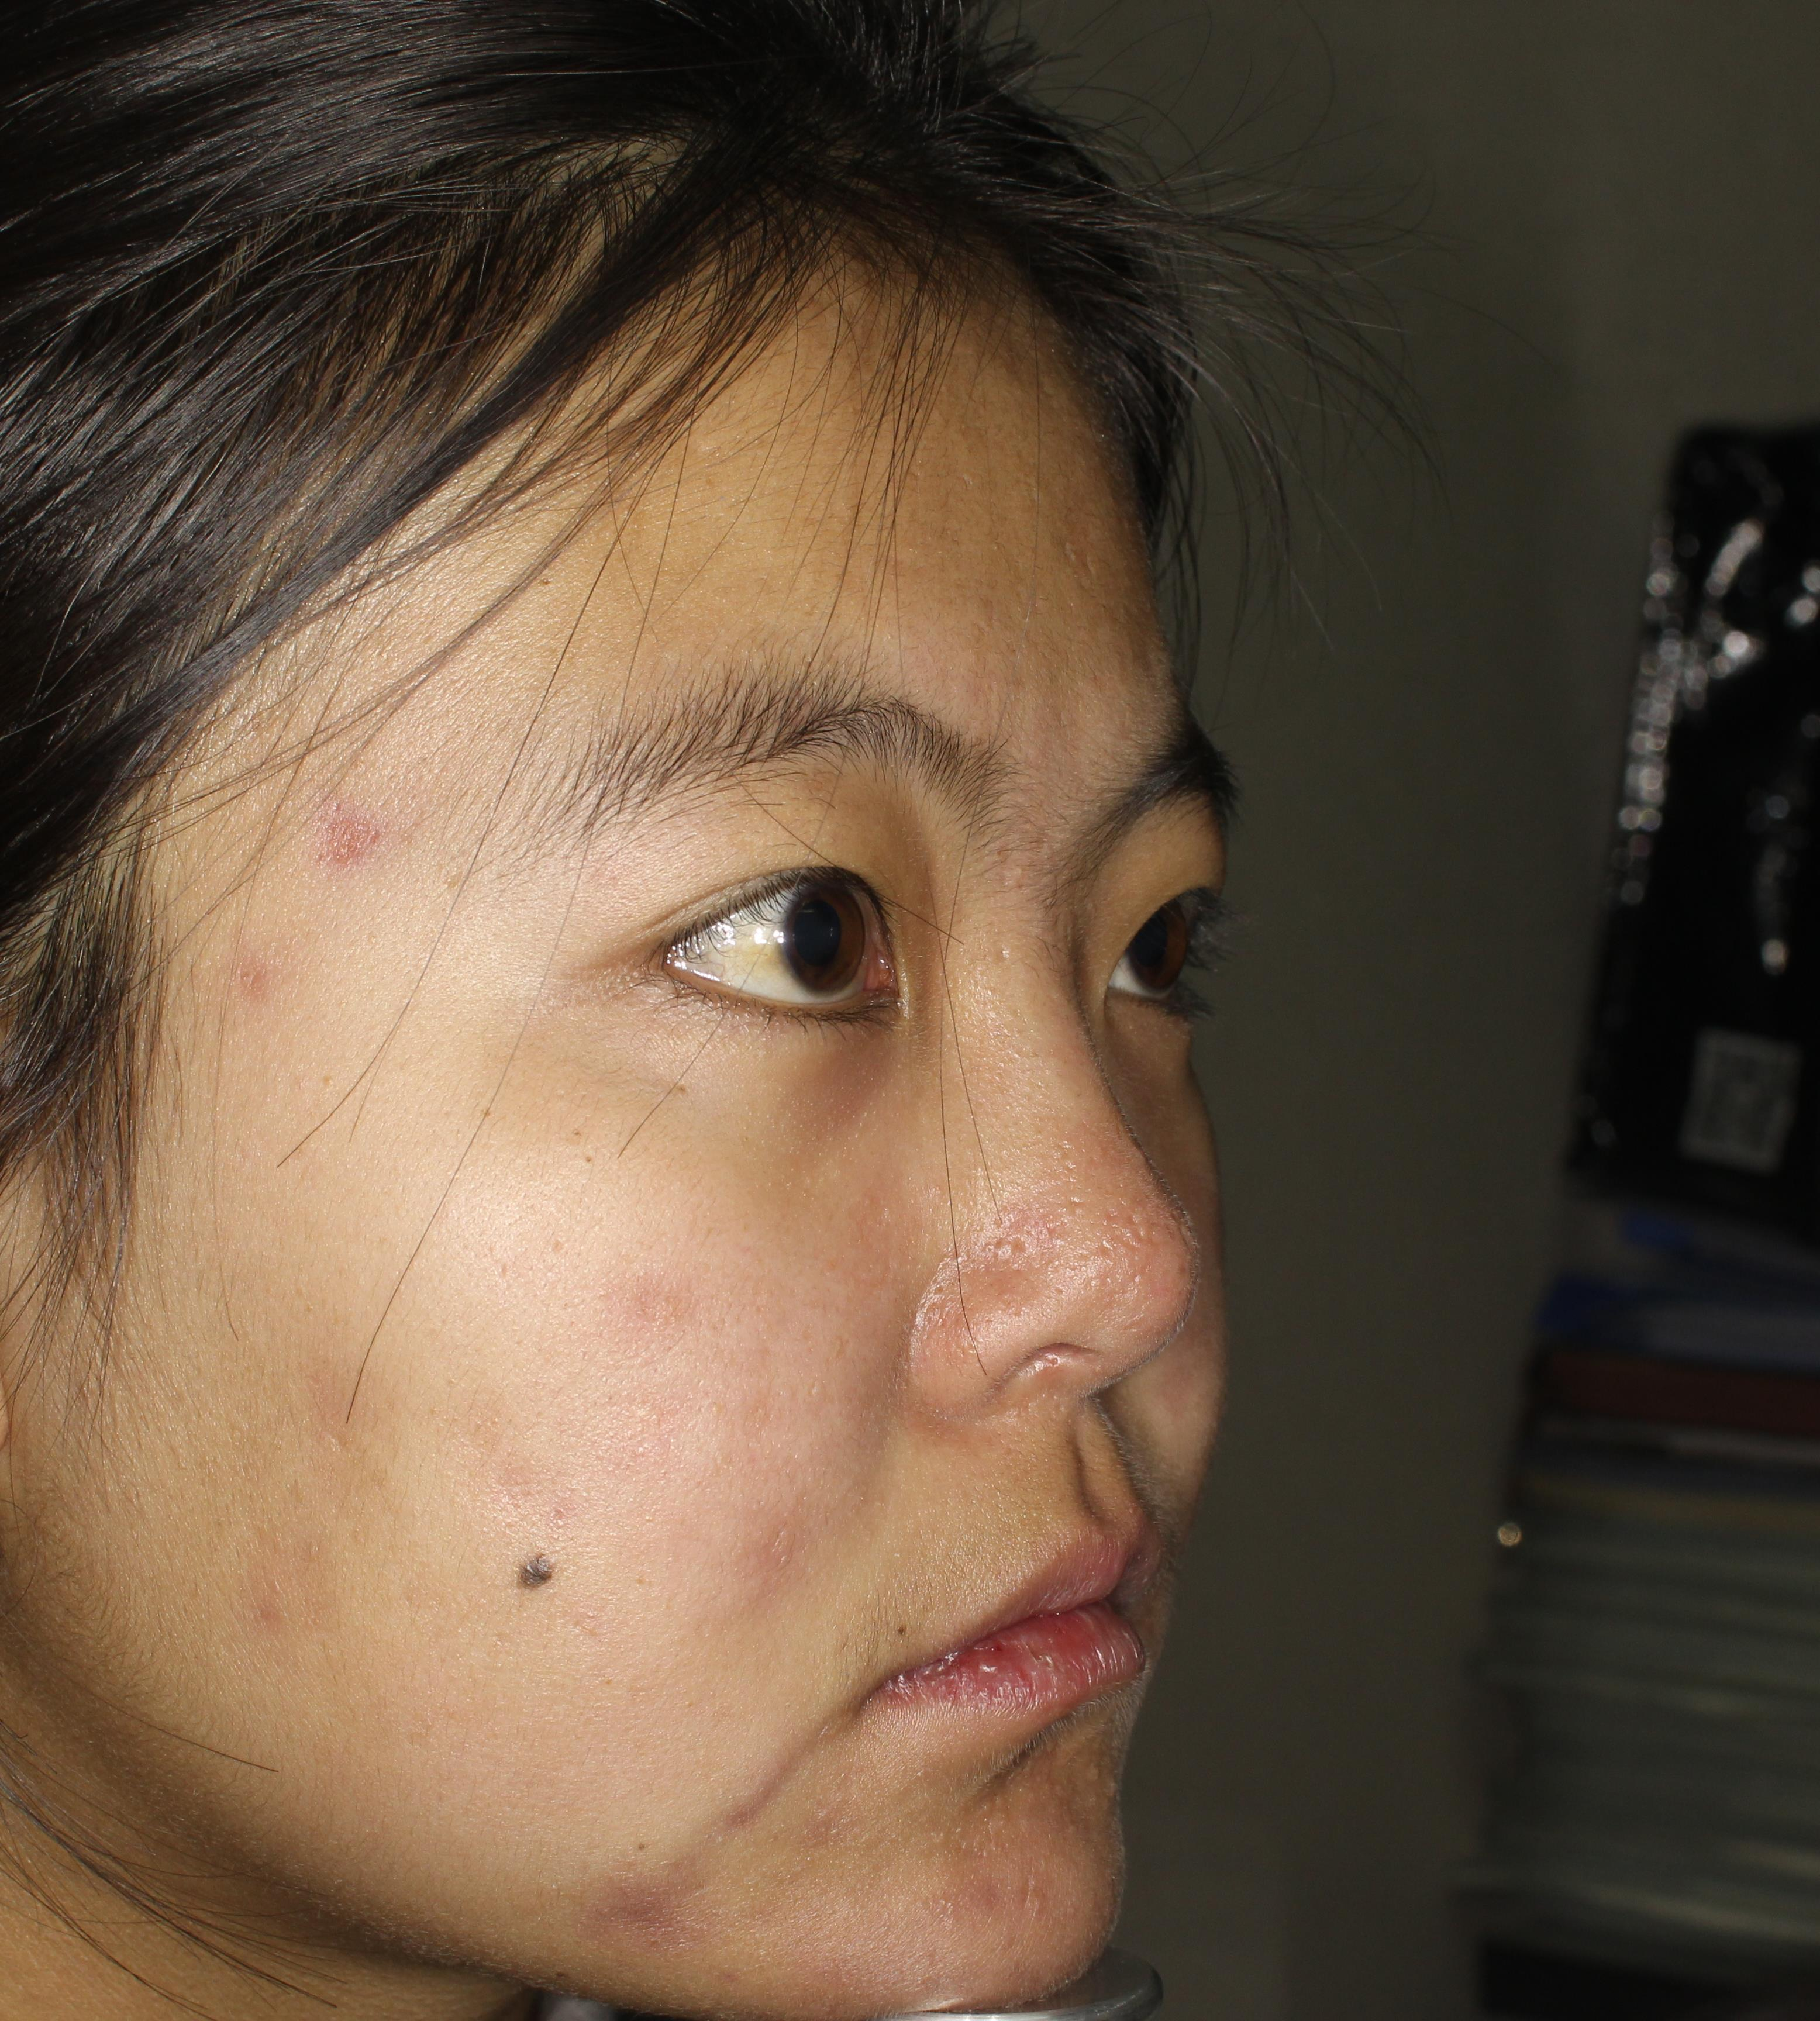fore: (580, 1849, 719, 1953), (917, 1851, 1024, 1937), (601, 1266, 708, 1347), (288, 783, 404, 855), (719, 1770, 799, 1831), (223, 943, 286, 1011)
